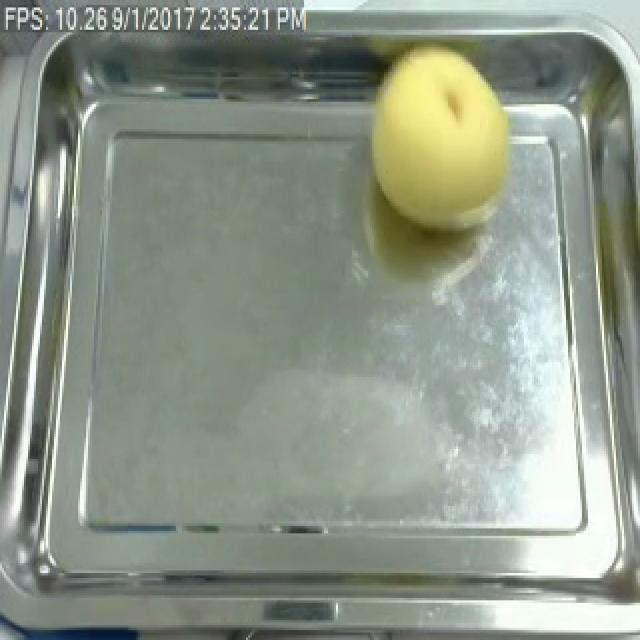Fruit: (354, 34, 524, 240)
